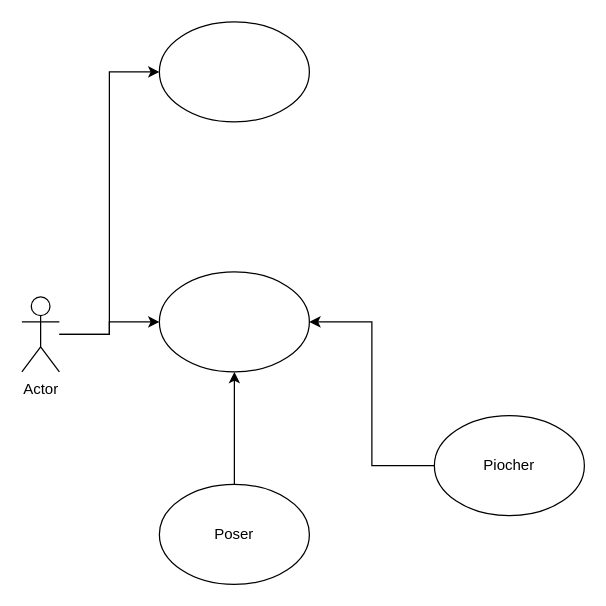
The diagram is 606 pixels wide and 606 high, and some of its shapes have lost their labels. Each missing label, with the box of its shape:
Attendre: (158, 21, 309, 122)
Jouer: (158, 271, 309, 372)
